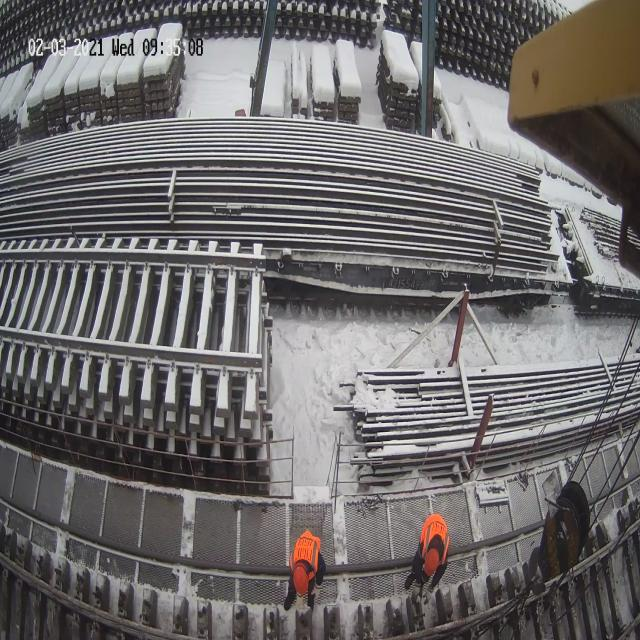Helmet: (419, 513, 449, 565), (292, 556, 309, 595)
Person: (404, 512, 450, 604), (283, 529, 326, 612)
